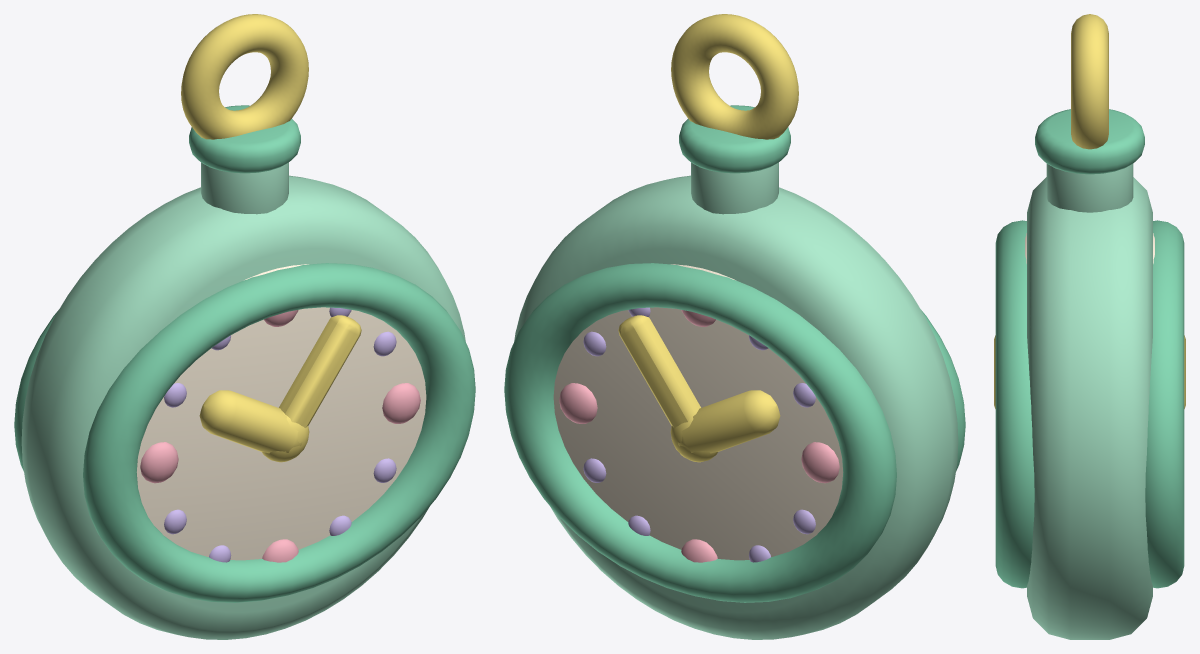
The model's file is clock_candy.glb.
3 views of the same model, side by side, from view 1: azimuth 30°, elevation 25°; view 2: azimuth 150°, elevation 25°; view 3: azimuth 270°, elevation 25° (orthographic).
Parts seen in each view (by area): view 1: clock_candy; view 2: clock_candy; view 3: clock_candy.
Part boxes in pixels (x1,y1,x2,y2): clock_candy: (14,14,475,639); clock_candy: (504,14,965,639); clock_candy: (994,14,1185,639).
Size of the model in its own units: 0.5006 by 0.7 by 0.2036.
